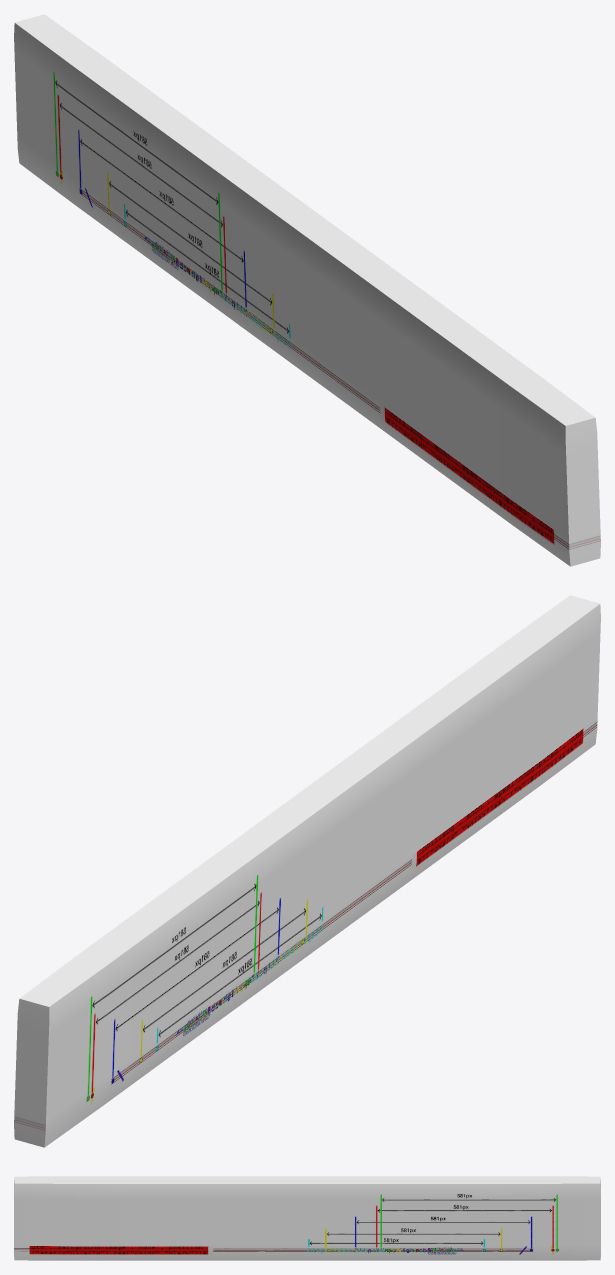
File: screen_right_1.fbx
3 views of the same model, one above another, from view 1: azimuth 30°, elevation 25°; view 2: azimuth 150°, elevation 25°; view 3: azimuth 270°, elevation 25° (orthographic). The views are drawn at different scales.
Parts seen in each view (by area): view 1: screen_right_1; view 2: screen_right_1; view 3: screen_right_1.
Boxes of the visible parts, x1,y1,x2,y2 form: screen_right_1: [14, 14, 600, 566]; screen_right_1: [14, 595, 600, 1147]; screen_right_1: [14, 1176, 600, 1260].
Size of the model in its own units: 0.6564 by 2.3 by 16.07.
1 material, 1 textured.
